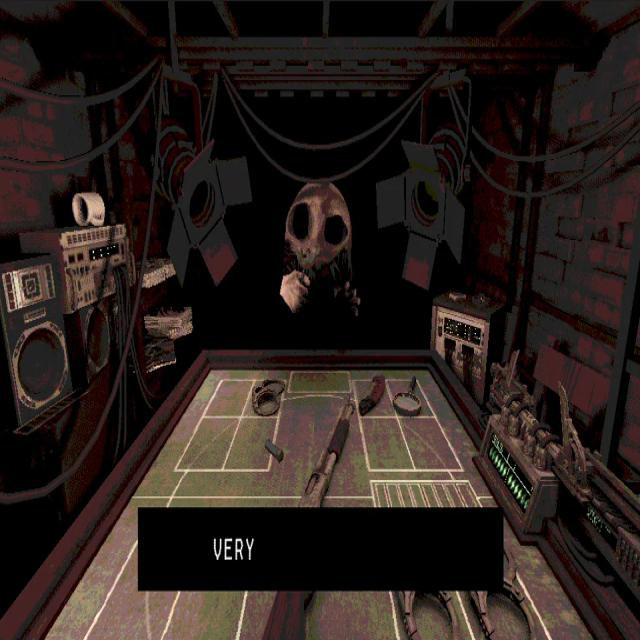ally: (42, 495, 600, 639)
doubledamage: (357, 374, 385, 415)
emptyspace: (174, 414, 240, 472), (399, 417, 459, 470), (222, 416, 279, 470), (360, 419, 416, 471), (202, 377, 254, 418)
enemyspace: (132, 367, 485, 489)
gun: (303, 399, 353, 508), (286, 592, 314, 639)
handcuff: (251, 378, 287, 414)
lens: (392, 375, 421, 416)
